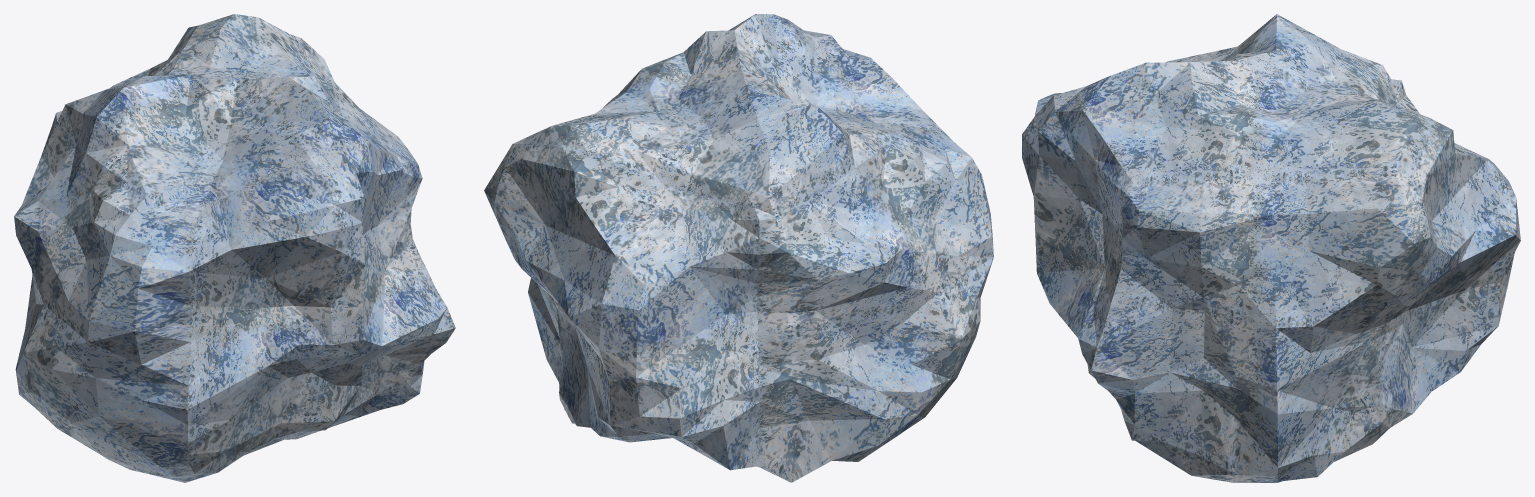
Rendered from asteroid_ice_large_s01_l0.fbx.
The picture shows the model from 3 angles, left to right: view 1: azimuth 30°, elevation 25°; view 2: azimuth 150°, elevation 25°; view 3: azimuth 270°, elevation 25°; orthographic projection.
Visible parts, largest first — view 1: mesh_node; view 2: mesh_node; view 3: mesh_node.
Part boxes in pixels (x1,y1,x2,y2): mesh_node: (14,14,455,482); mesh_node: (484,14,993,482); mesh_node: (1022,14,1520,482).
Size of the model in its own units: 140 by 127 by 146.
Materials: 1 (1 with a texture image).
